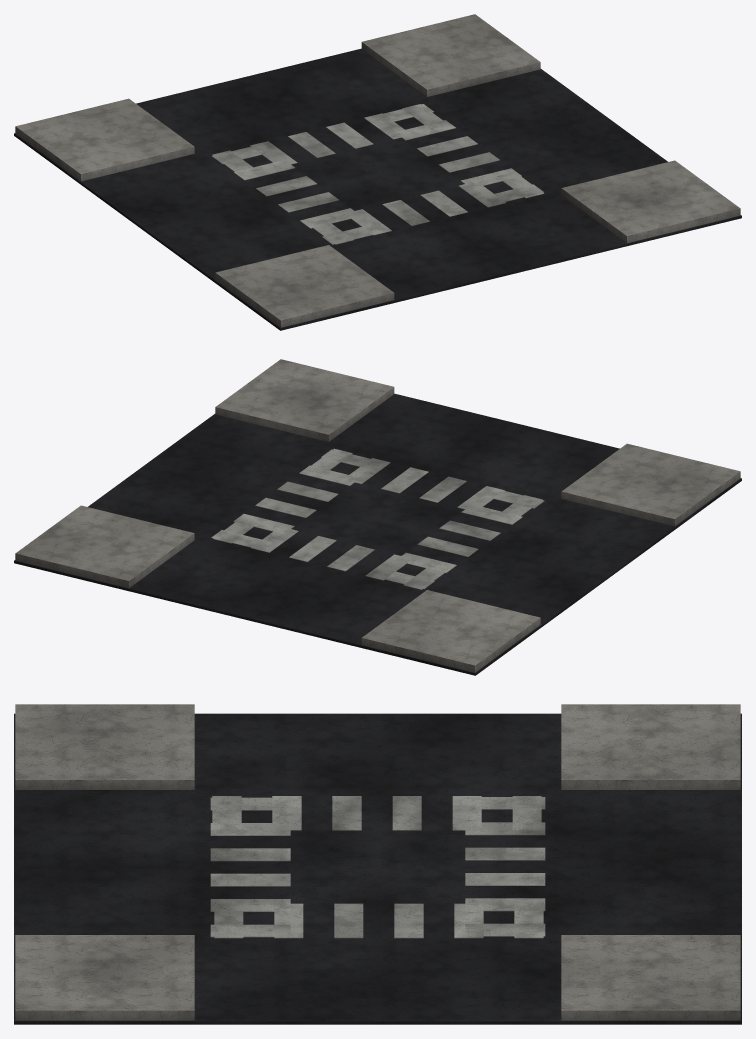
Rendered from road_cross.glb.
3 renders of one model, top to bottom at view 1: azimuth 30°, elevation 25°; view 2: azimuth 150°, elevation 25°; view 3: azimuth 270°, elevation 25°, orthographic. The views are drawn at different scales.
Parts seen in each view (by area): view 1: road_cross, group_8, group_22, group_1, group_15; view 2: road_cross, group_8, group_1, group_15, group_22; view 3: road_cross, group_1, group_22, group_15, group_8.
Part boxes in pixels (bbox=[...]): road_cross: bbox=[14, 14, 741, 330]; group_8: bbox=[373, 104, 543, 204]; group_22: bbox=[212, 144, 374, 244]; group_1: bbox=[307, 172, 544, 244]; group_15: bbox=[212, 104, 444, 176]; road_cross: bbox=[14, 359, 741, 675]; group_8: bbox=[211, 449, 380, 549]; group_1: bbox=[305, 448, 542, 516]; group_15: bbox=[213, 522, 450, 589]; group_22: bbox=[378, 489, 544, 589]; road_cross: bbox=[14, 704, 741, 1024]; group_1: bbox=[210, 797, 290, 937]; group_22: bbox=[212, 796, 541, 830]; group_15: bbox=[465, 797, 545, 936]; group_8: bbox=[214, 903, 543, 938].
Size of the model in its own units: 20 by 0.4 by 20.
Materials: 3 (3 with a texture image).
